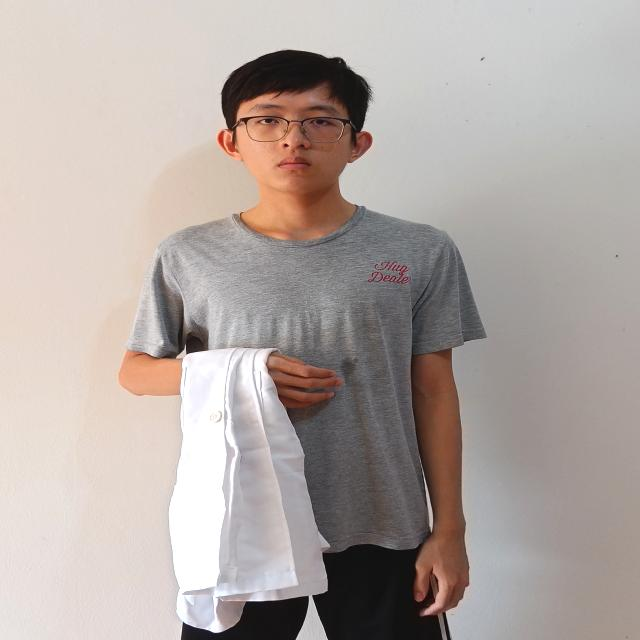person_without_labcoat: (119, 50, 485, 640)
